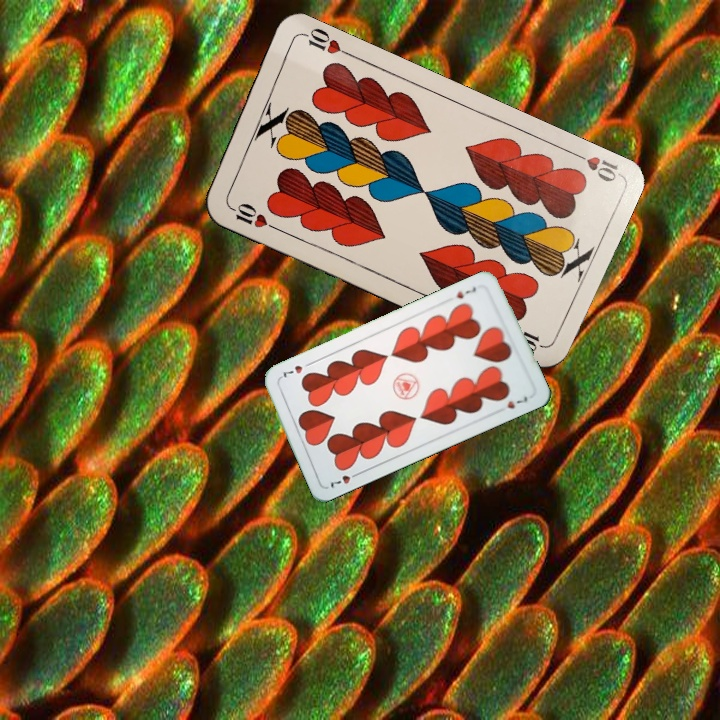H10: (566, 147, 623, 185), (224, 199, 279, 233)
H7: (326, 468, 363, 491), (453, 283, 479, 301)
